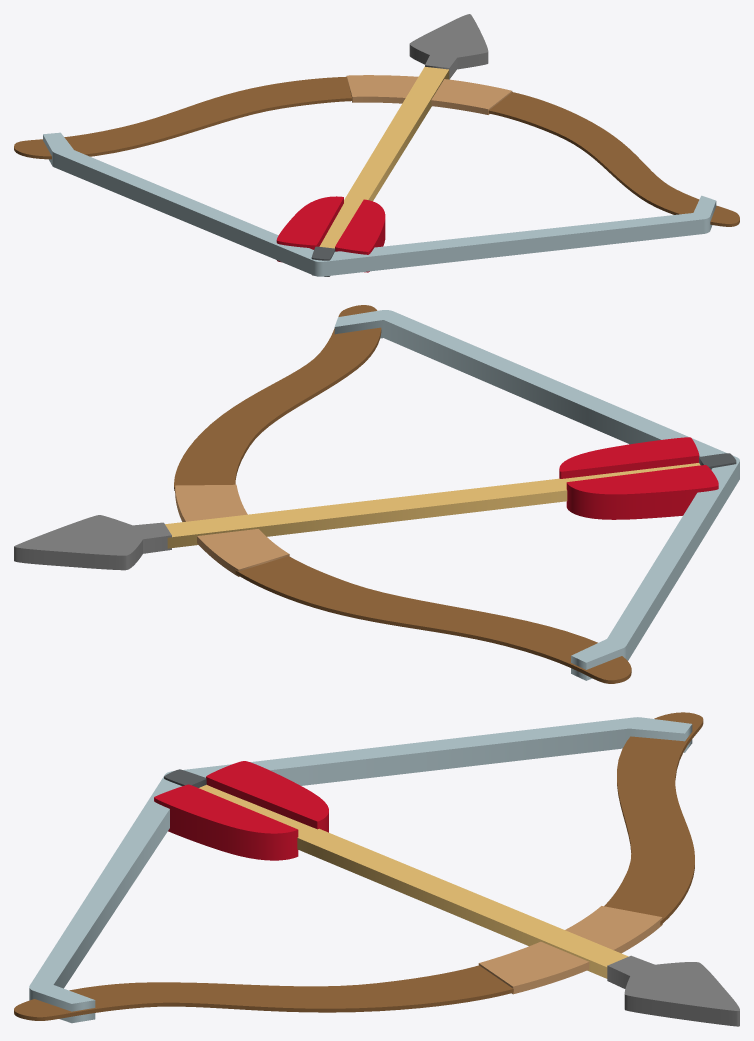
Rendered from emoji_u1f3f9.glb.
The picture shows the model from 3 angles, top to bottom: view 1: azimuth 30°, elevation 25°; view 2: azimuth 150°, elevation 25°; view 3: azimuth 270°, elevation 25°; orthographic projection. The views are drawn at different scales.
Visible parts, largest first — view 1: emoji_u1f3f9; view 2: emoji_u1f3f9; view 3: emoji_u1f3f9.
Part boxes in pixels (left/top/right/bottom): emoji_u1f3f9: left=14, top=14, right=739, bottom=276; emoji_u1f3f9: left=14, top=305, right=739, bottom=683; emoji_u1f3f9: left=14, top=712, right=739, bottom=1026.
Size of the model in its own units: 0.0339 by 0.0014 by 0.0341.
